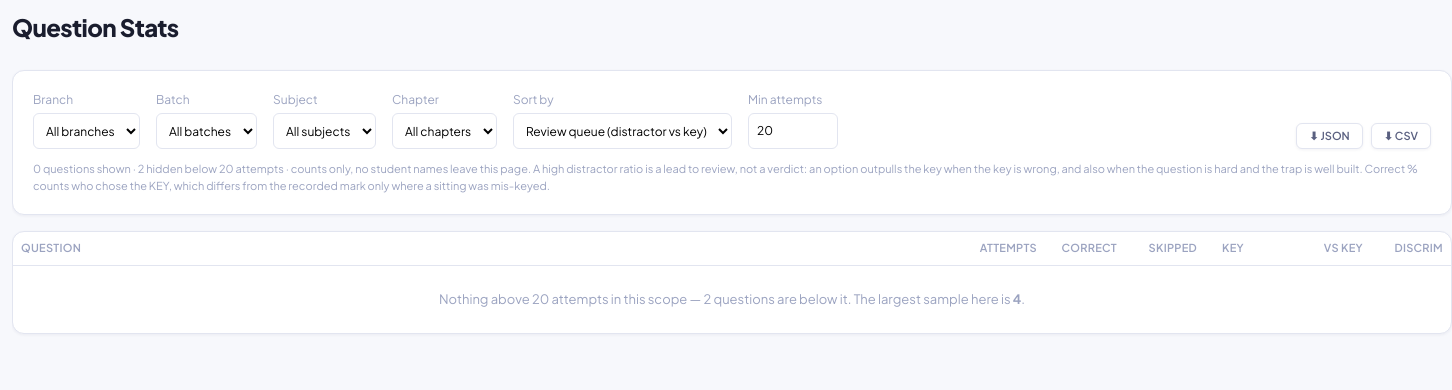
ItemStatsPage — the table › lists a row per bank question, worst key-vs-distractor first
The image size is (1452, 390).
Replace the text in the number field labelled "Min attempts" with "1" at (793, 131), box [748,113,838,149]
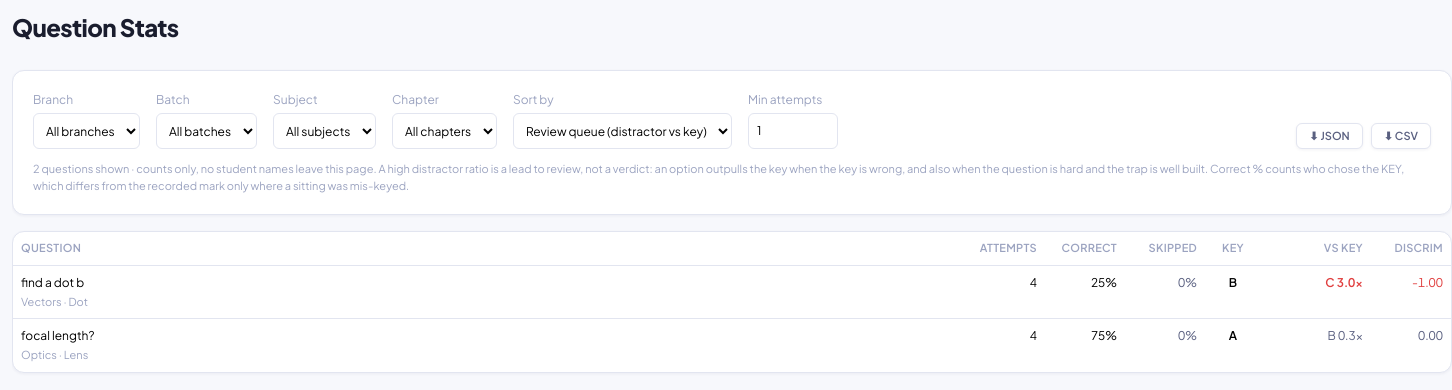
Result: the number of rows with test id "item-row" is 2 at [13,265,1451,318]; [13,318,1451,372]
Result: the text "find a dot b" is shown at [21,274,84,290]
